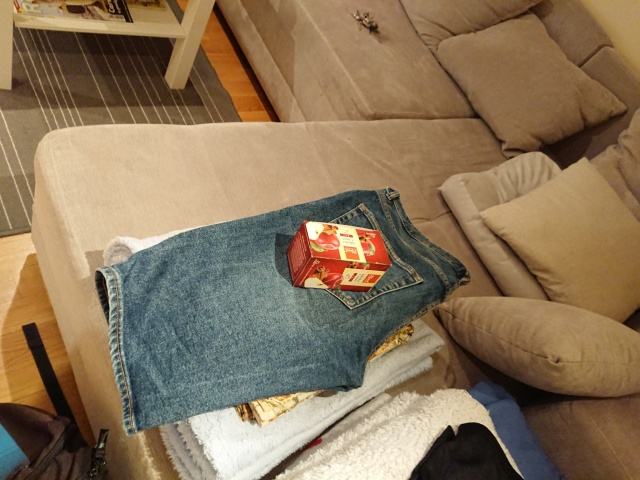Franck Apple Cinnamon Tea 60g: (283, 217, 395, 295)
